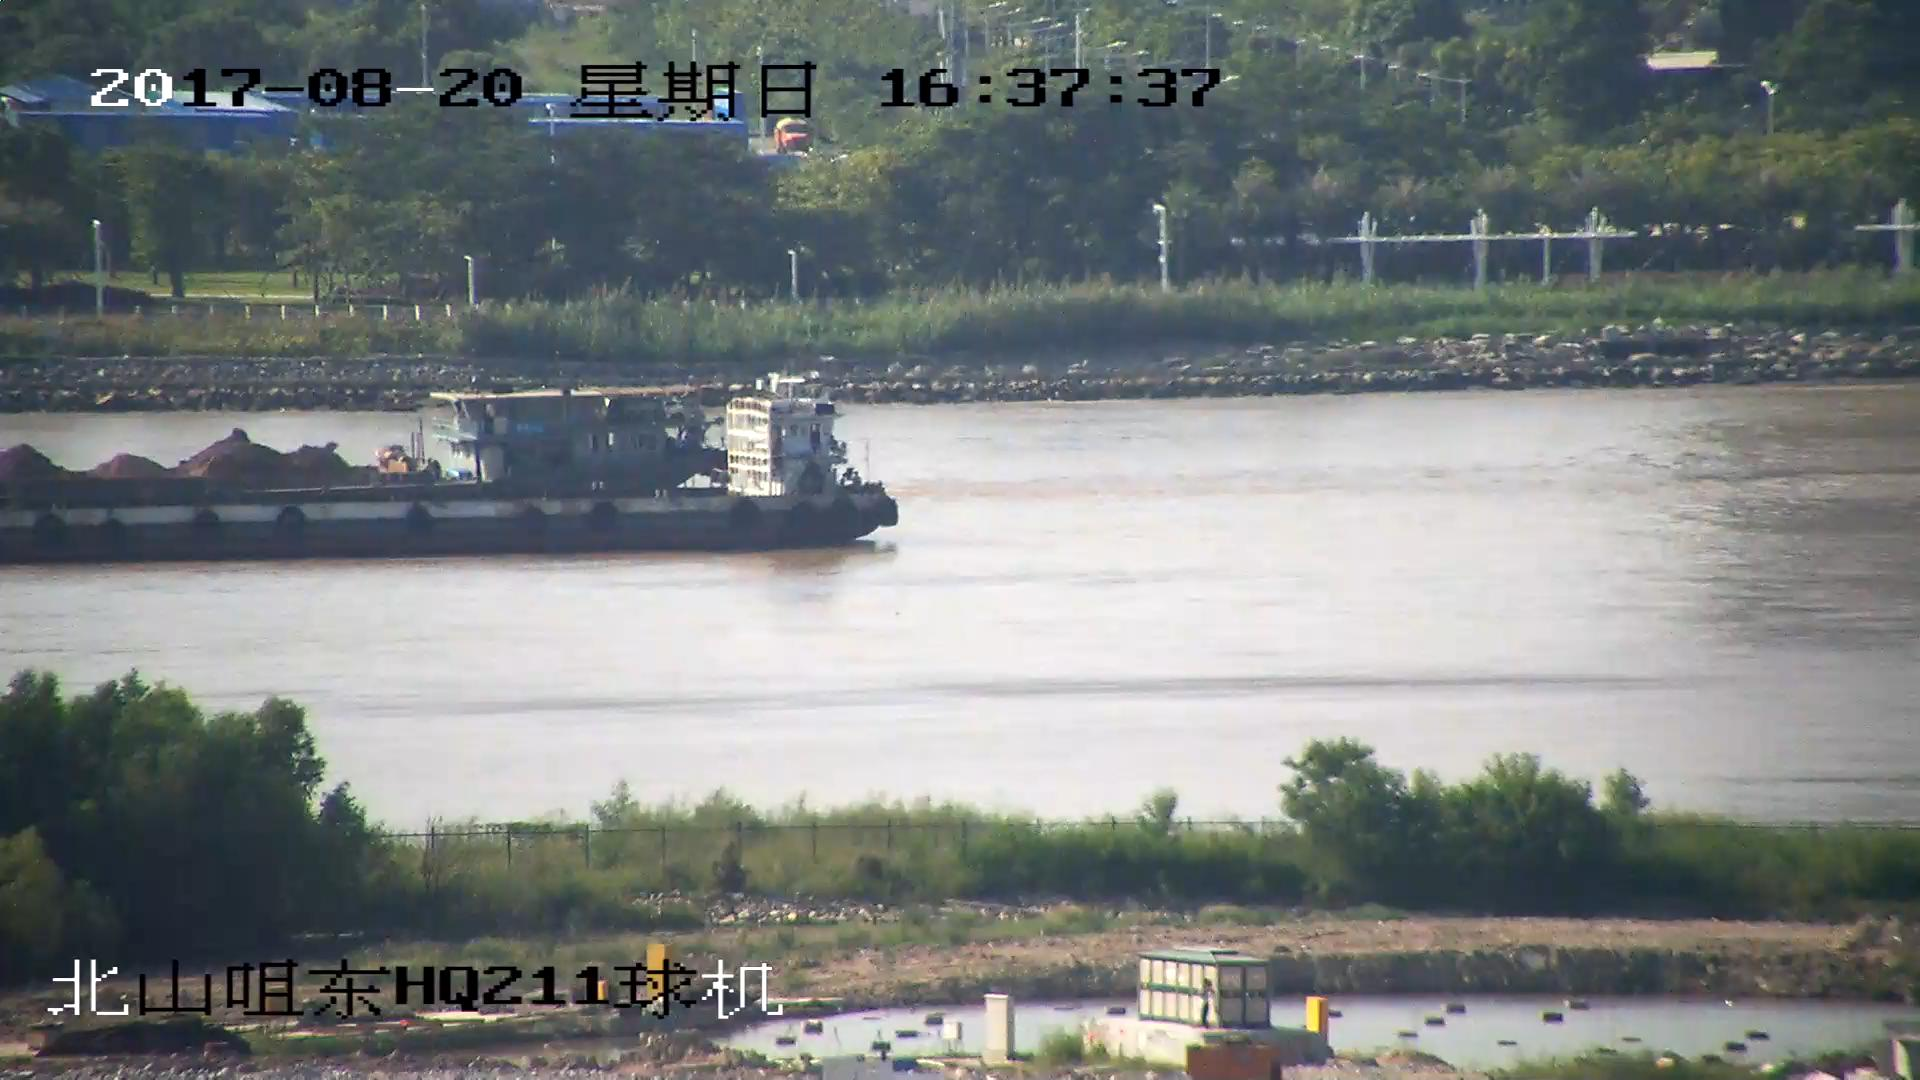general cargo ship: (1, 381, 899, 558)
ore carrier: (1, 394, 719, 501)
